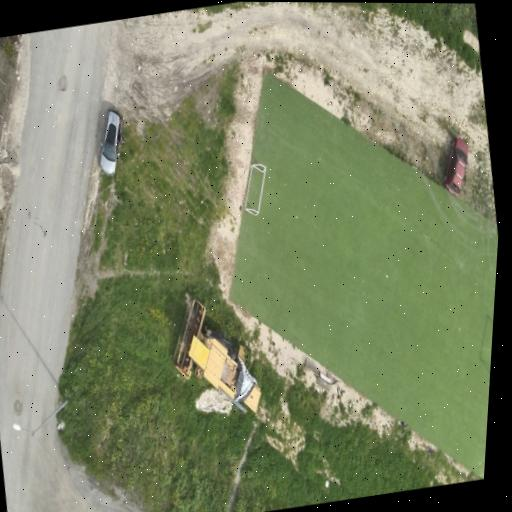car: (99, 108, 122, 175), (444, 136, 467, 194)
harvester: (174, 295, 260, 412)
